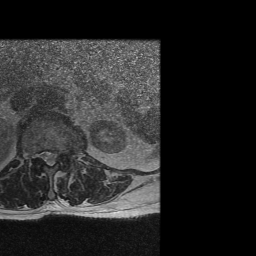CCS_stenosis: (46, 147, 53, 171)
LFS_severe_stenosis: (60, 145, 65, 163)
LLS_stenosis: (53, 147, 59, 164)
RFS_stenosis: (34, 148, 41, 165)
RLS_normal: (40, 146, 46, 166)
